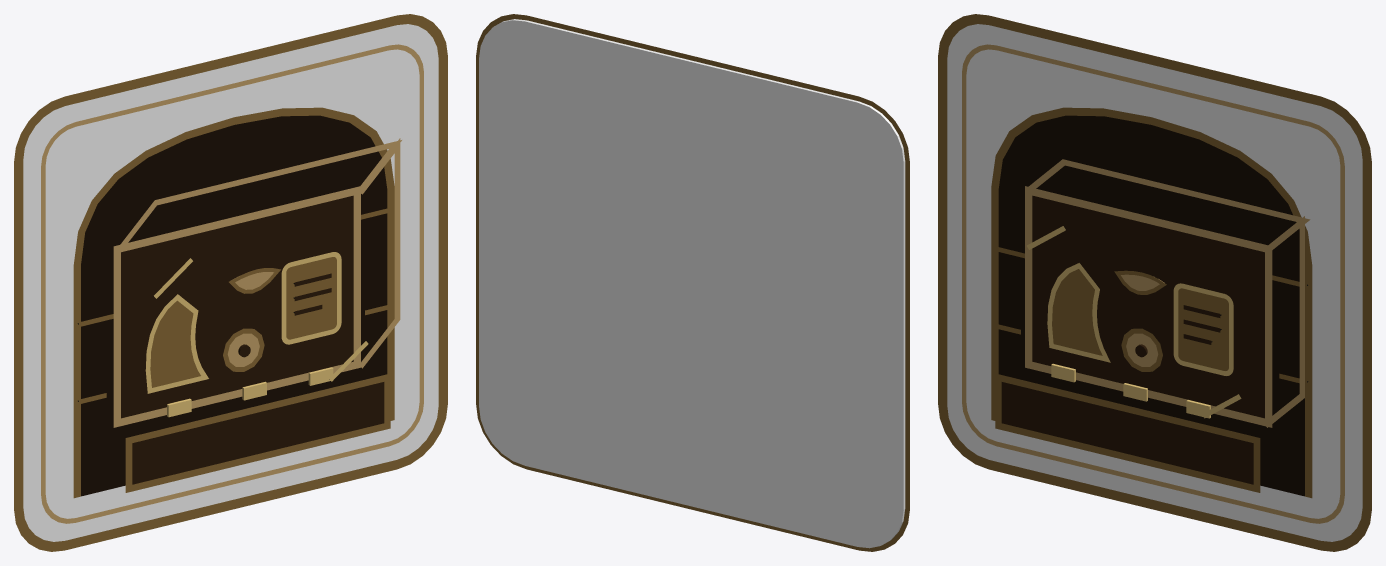
The model's file is obj-vitrina-kripty.glb.
3 renders of one model, left to right at view 1: azimuth 30°, elevation 25°; view 2: azimuth 150°, elevation 25°; view 3: azimuth 330°, elevation 25°, orthographic.
Parts seen in each view (by area): view 1: obj-vitrina-kripty; view 2: obj-vitrina-kripty; view 3: obj-vitrina-kripty.
Boxes of the visible parts, box(x1,y1,x2,y2) form: obj-vitrina-kripty: box(14, 14, 447, 551); obj-vitrina-kripty: box(476, 14, 909, 551); obj-vitrina-kripty: box(938, 14, 1371, 551).
Bounding box in the file's own units: 0.3917 × 0.3917 × 0.0451.
